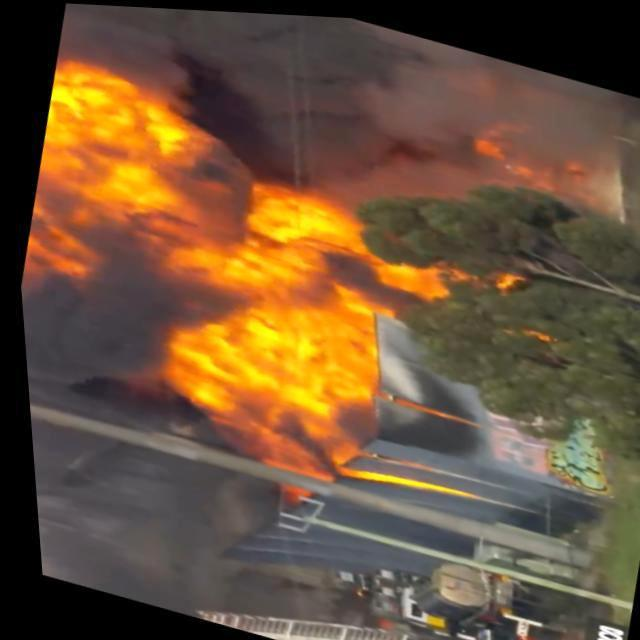fire: (4, 51, 516, 483)
